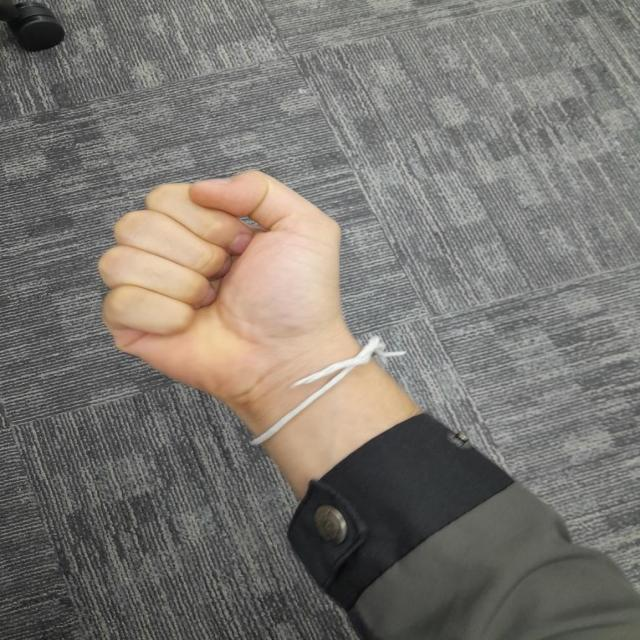fist: (101, 170, 346, 401)
